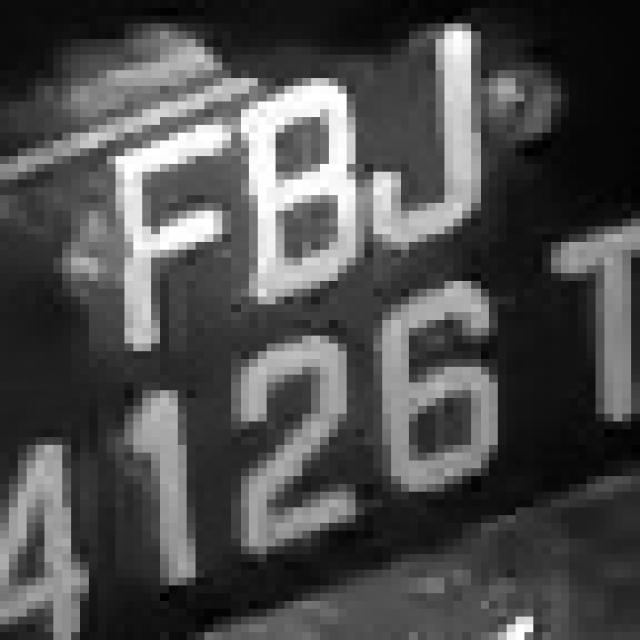1: (116, 359, 204, 609)
2: (222, 343, 374, 570)
4: (18, 414, 124, 632)
6: (364, 281, 516, 499)
B: (222, 63, 374, 304)
F: (89, 101, 240, 352)
J: (356, 8, 506, 242)
T: (542, 211, 640, 468)
